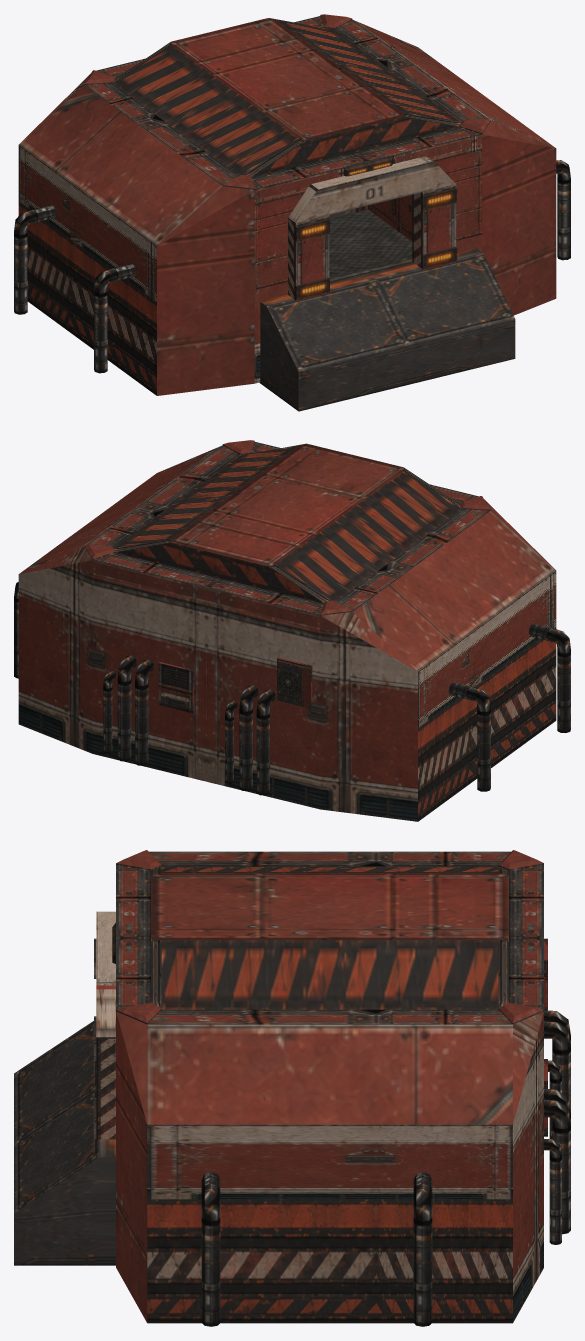
The model's file is stable.dae.
The picture shows the model from 3 angles, top to bottom: view 1: azimuth 30°, elevation 25°; view 2: azimuth 150°, elevation 25°; view 3: azimuth 270°, elevation 25°; orthographic projection. The views are drawn at different scales.
Visible parts, largest first — view 1: stable; view 2: stable; view 3: stable.
Boxes of the visible parts, left/top/right/bottom form: stable: left=14, top=14, right=570, bottom=411; stable: left=14, top=440, right=570, bottom=821; stable: left=14, top=850, right=570, bottom=1326.
Size of the model in its own units: 39.01 by 29.93 by 17.12.
